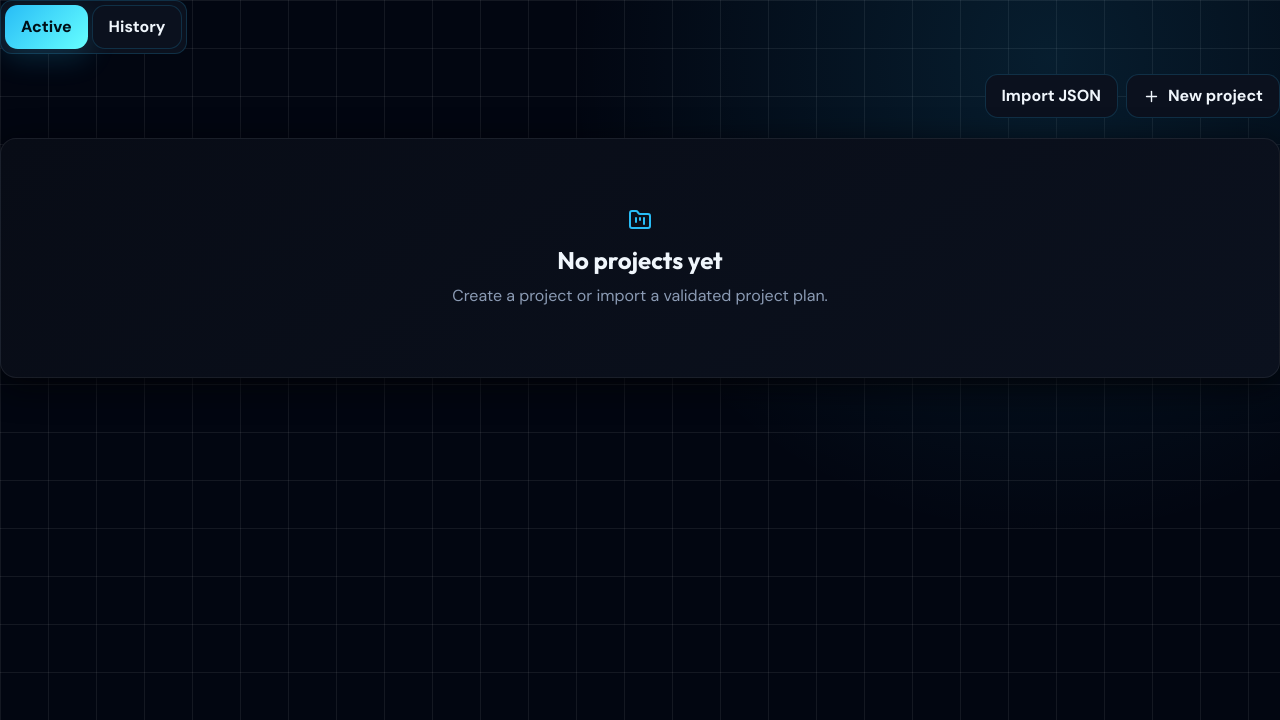
Test case: ProjectPanel resource and form states › keeps create and import panels mutually exclusive and validates creation
Click the button "New project" at (1203, 96), box [1126, 74, 1279, 118]
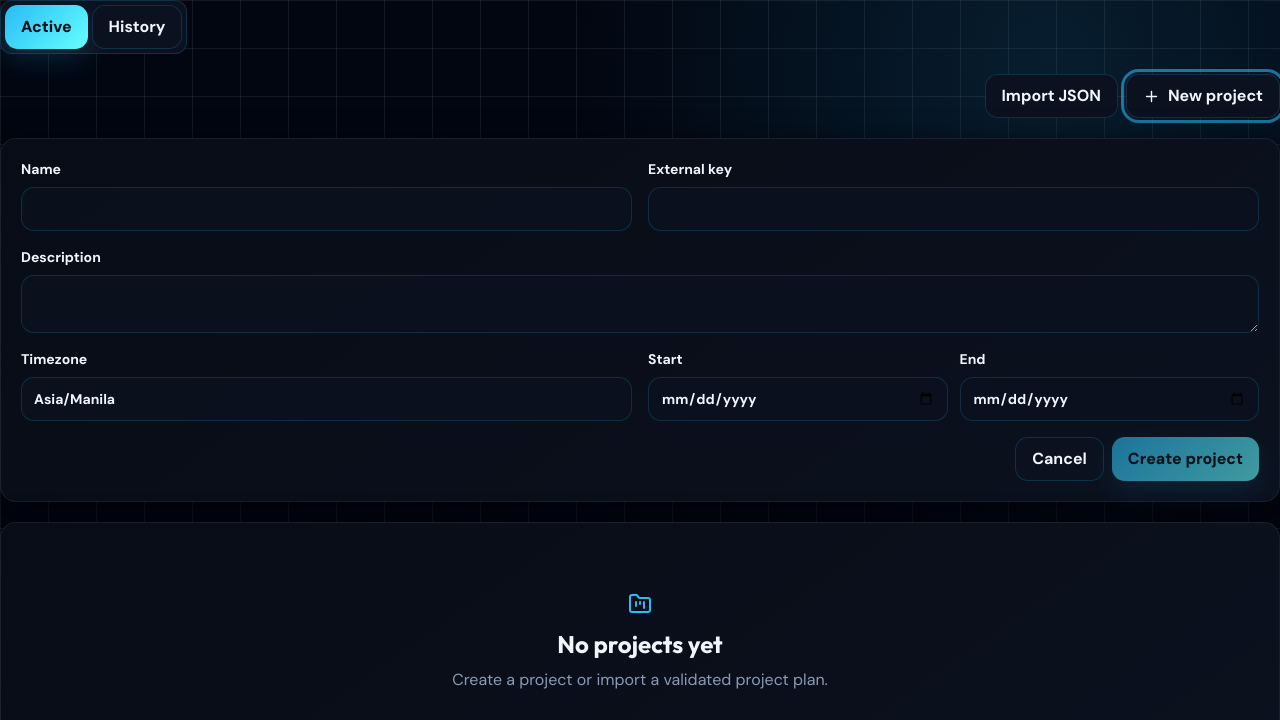
Check: the button "Create project" is disabled, box [1112, 437, 1259, 481]
Type "Sprint" into the field labelled "Name" at (326, 209), box [21, 187, 632, 231]
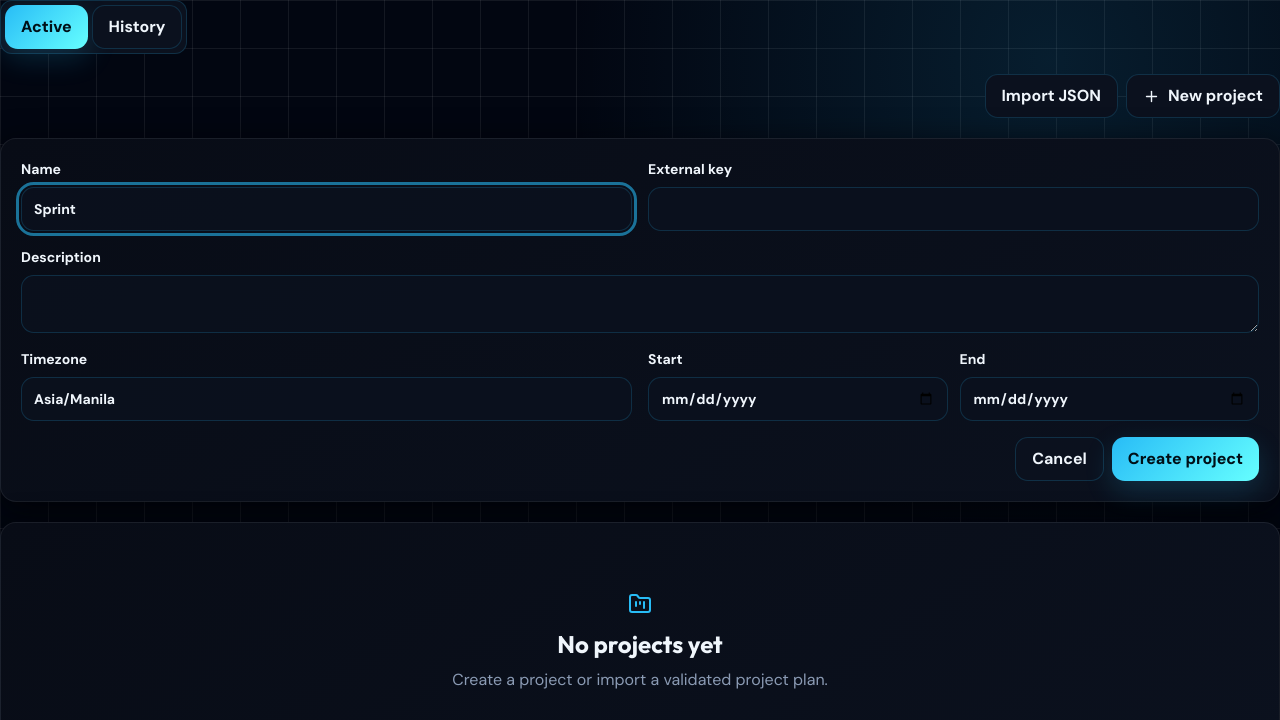
Check: the button "Create project" is enabled, box [1112, 437, 1259, 481]
Click the button "Import JSON" at (1051, 96), box [984, 74, 1118, 118]
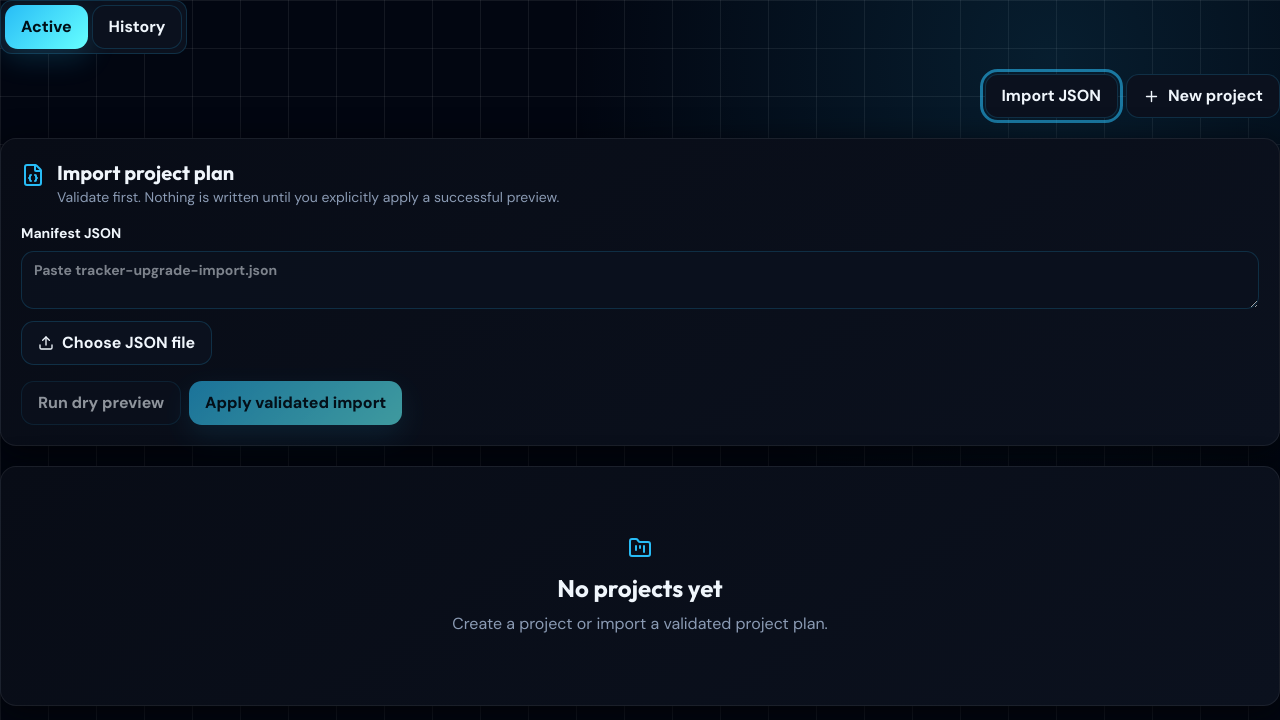
Check: the heading "Import project plan" is shown, box [57, 160, 234, 185]
Check: the button "Create project" is gone
Click the button "New project" at (1203, 96), box [1126, 74, 1279, 118]
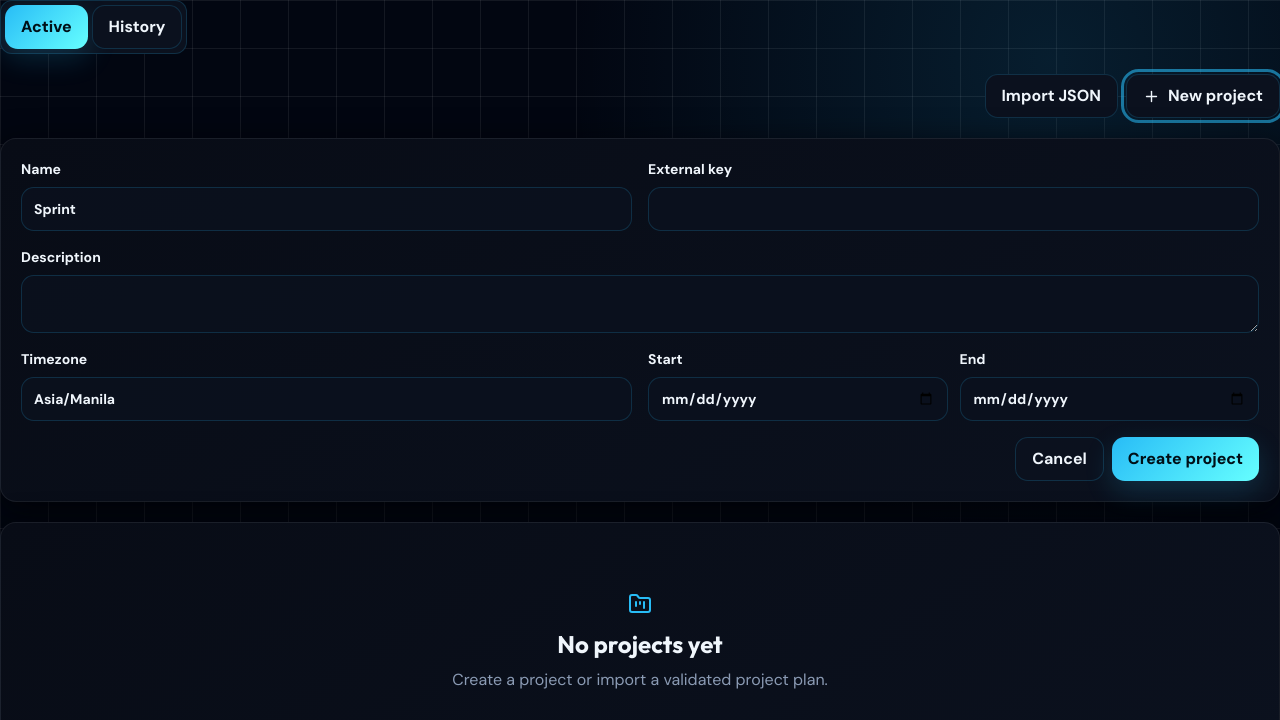
Check: the heading "Import project plan" is gone
Check: the button "Create project" is enabled, box [1112, 437, 1259, 481]
